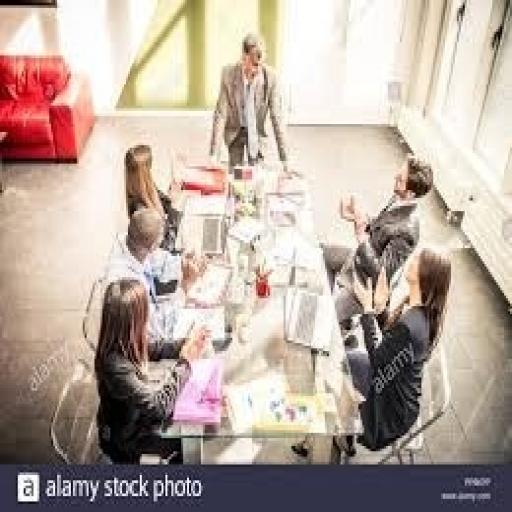clapping: (310, 232, 482, 458), (300, 108, 436, 327), (90, 274, 212, 464), (207, 29, 291, 172), (120, 140, 183, 251)
